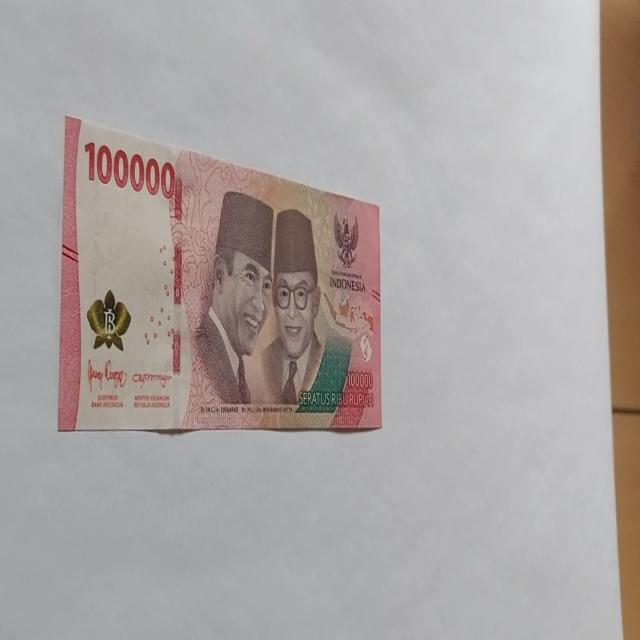seratus ribu rupiah: (57, 114, 383, 434), (183, 188, 275, 426)
